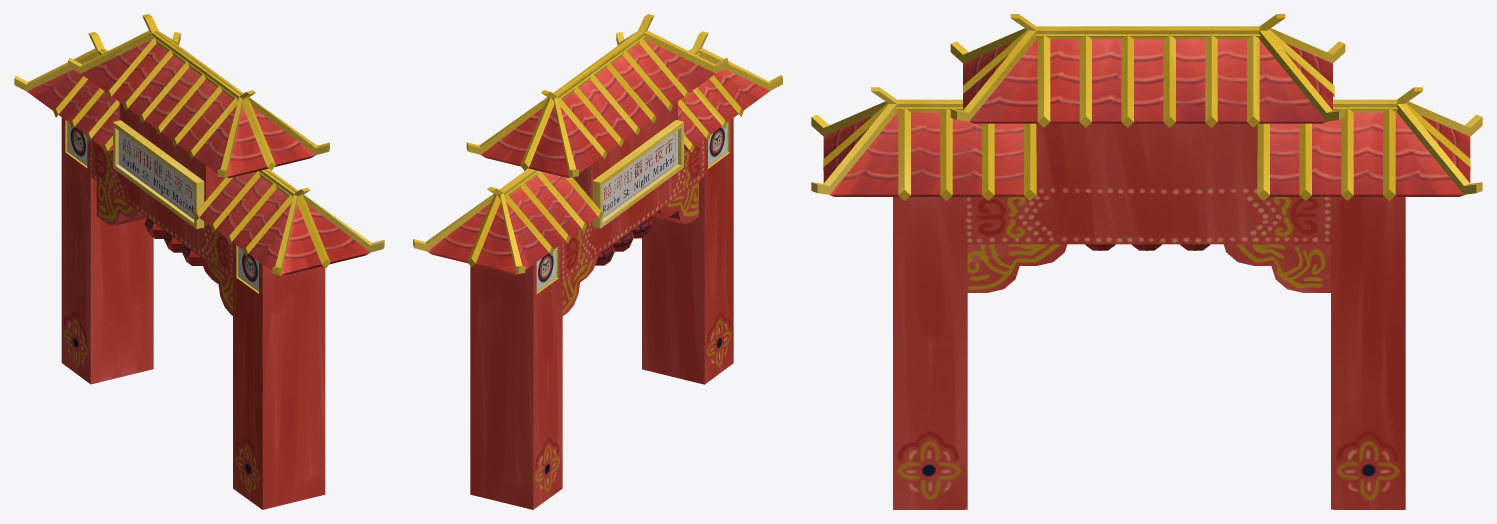
Rendered from raoheGate.glb.
3 views of the same model, side by side, from view 1: azimuth 30°, elevation 25°; view 2: azimuth 150°, elevation 25°; view 3: azimuth 270°, elevation 25° (orthographic). The views are drawn at different scales.
Visible parts, largest first — view 1: raoheGate; view 2: raoheGate; view 3: raoheGate.
Part boxes in pixels (box(x1,y1,x2,y2)): raoheGate: box(14, 14, 384, 509); raoheGate: box(413, 14, 782, 509); raoheGate: box(811, 14, 1482, 509).
Bounding box in the file's own units: 1.55 × 4.93 × 6.29.
Materials: 1 (1 with a texture image).
